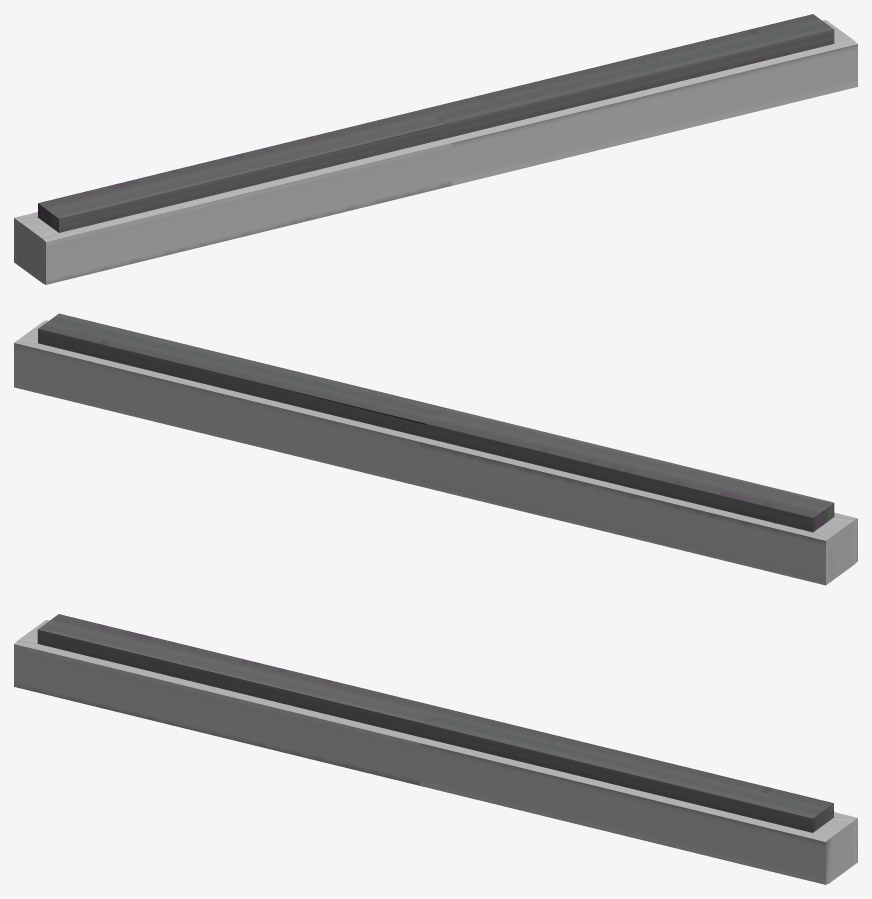
File: open_gem.fbx
The picture shows the model from 3 angles, top to bottom: view 1: azimuth 30°, elevation 25°; view 2: azimuth 150°, elevation 25°; view 3: azimuth 330°, elevation 25°; orthographic projection.
Parts seen in each view (by area): view 1: open_gem; view 2: open_gem; view 3: open_gem.
Boxes of the visible parts, <box> form: open_gem: <box>14,14,857,284</box>; open_gem: <box>14,313,857,585</box>; open_gem: <box>14,614,857,884</box>.
Bounding box in the file's own units: 1.74 × 0.1204 × 0.1191.
